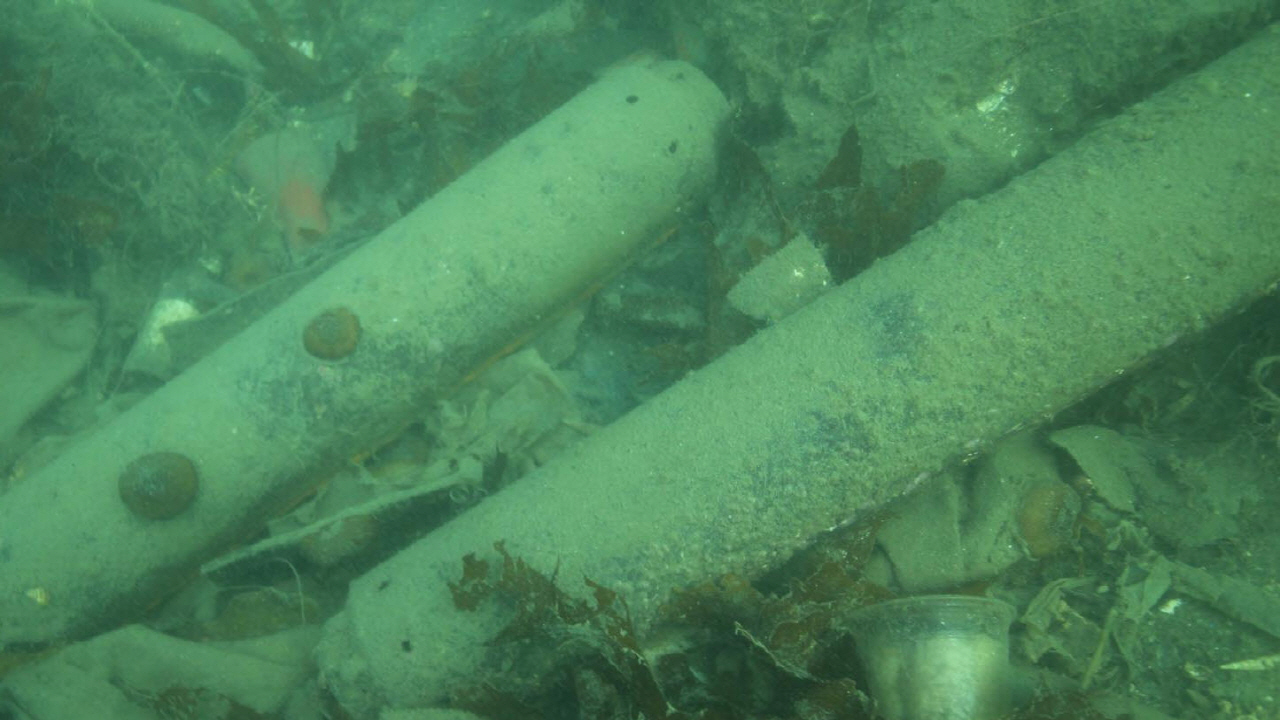eel fish trap: (314, 20, 1280, 715), (0, 51, 733, 646)
